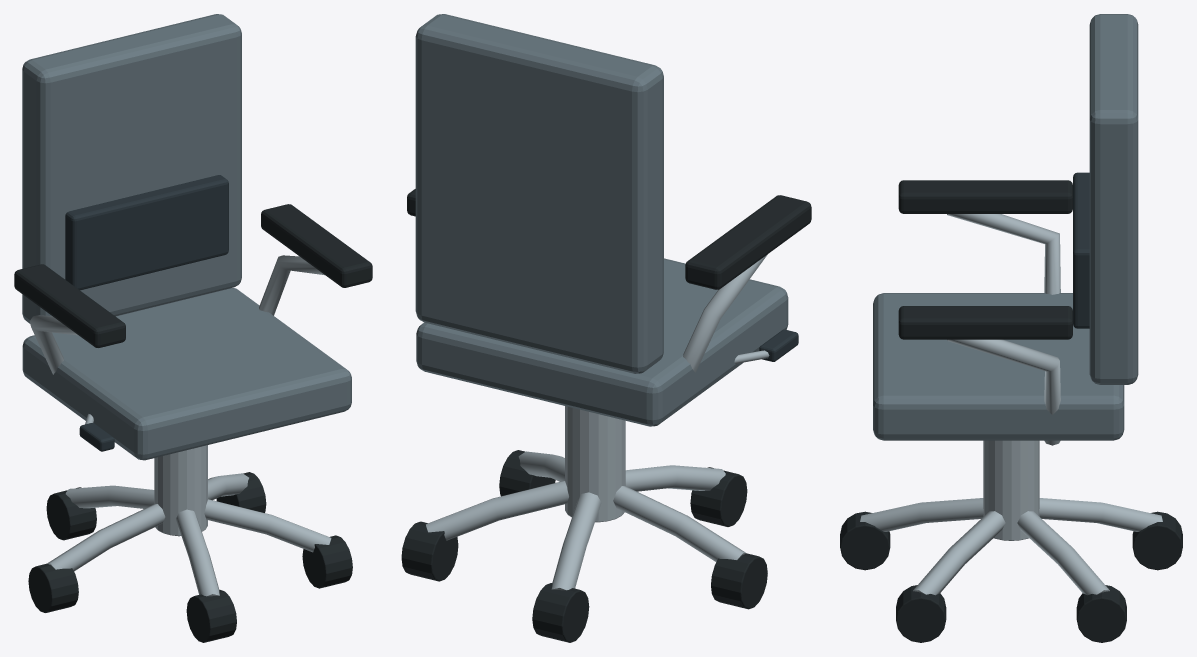
The model's file is SF_TaskChair.fbx.
3 renders of one model, left to right at view 1: azimuth 30°, elevation 25°; view 2: azimuth 150°, elevation 25°; view 3: azimuth 270°, elevation 25°, orthographic. The views are drawn at different scales.
Visible parts, largest first — view 1: SF_TaskChair; view 2: SF_TaskChair; view 3: SF_TaskChair.
Boxes of the visible parts, bbox=[...] form: SF_TaskChair: bbox=[14, 14, 372, 642]; SF_TaskChair: bbox=[401, 14, 811, 642]; SF_TaskChair: bbox=[840, 14, 1182, 642].
Size of the model in its own units: 65.95 by 112 by 66.86.
